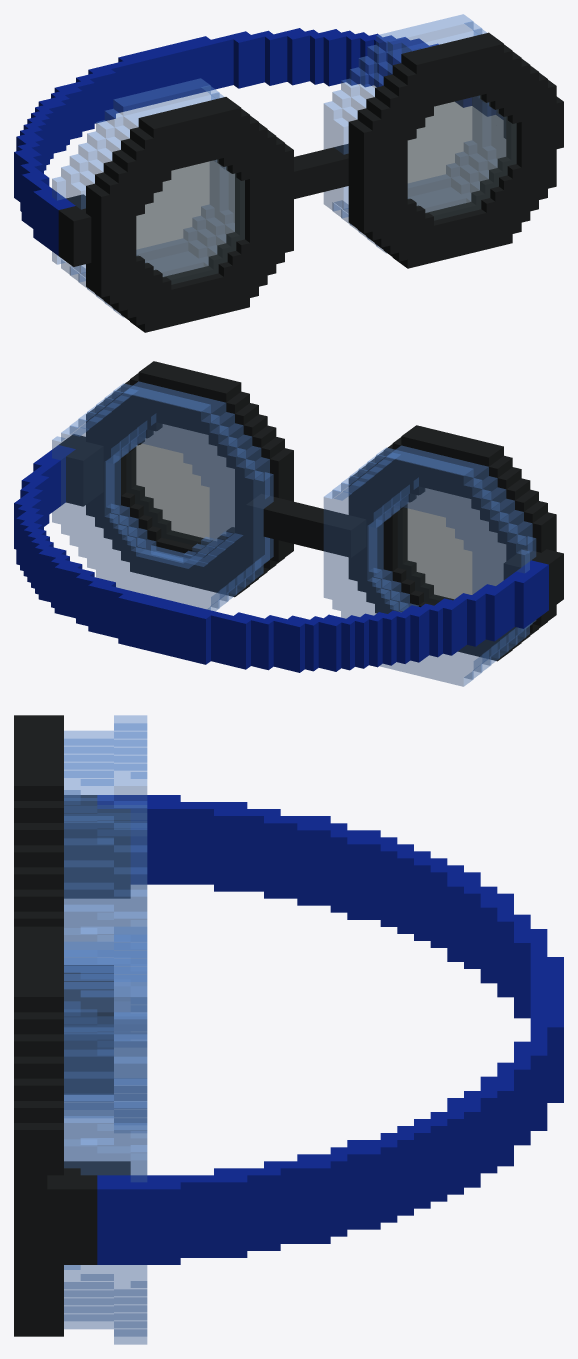
Rendered from goggles_swim.glb.
3 renders of one model, top to bottom at view 1: azimuth 30°, elevation 25°; view 2: azimuth 150°, elevation 25°; view 3: azimuth 270°, elevation 25°, orthographic. The views are drawn at different scales.
Parts seen in each view (by area): view 1: goggles_swim:compound; view 2: goggles_swim:compound; view 3: goggles_swim:compound.
Boxes of the visible parts, left/top/right/bottom form: goggles_swim:compound: left=14, top=14, right=563, bottom=332; goggles_swim:compound: left=14, top=361, right=563, bottom=686; goggles_swim:compound: left=14, top=715, right=563, bottom=1344.
Size of the model in its own units: 0.112 by 0.046 by 0.066.
